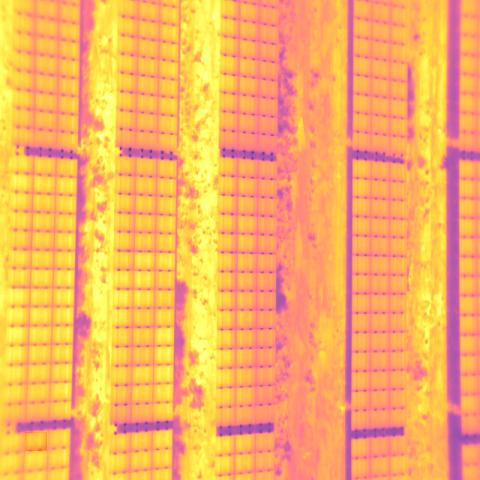fault: (25, 432, 48, 451)
